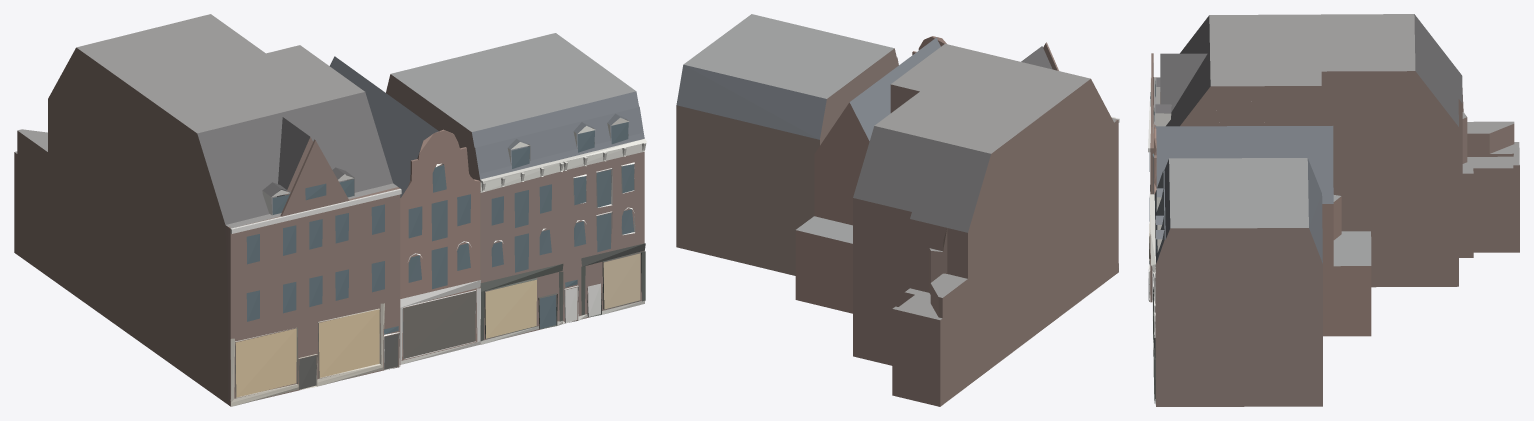
Rendered from chunk-face-baerle-22-30.lod2.glb.
The picture shows the model from 3 angles, left to right: view 1: azimuth 30°, elevation 25°; view 2: azimuth 150°, elevation 25°; view 3: azimuth 270°, elevation 25°; orthographic projection. The views are drawn at different scales.
Parts seen in each view (by area): view 1: lod2; view 2: lod2; view 3: lod2.
Part boxes in pixels (x1,y1,x2,y2): lod2: (14,14,647,406); lod2: (676,14,1119,406); lod2: (1148,14,1519,406).
Size of the model in its own units: 34.09 by 19.31 by 30.14.
